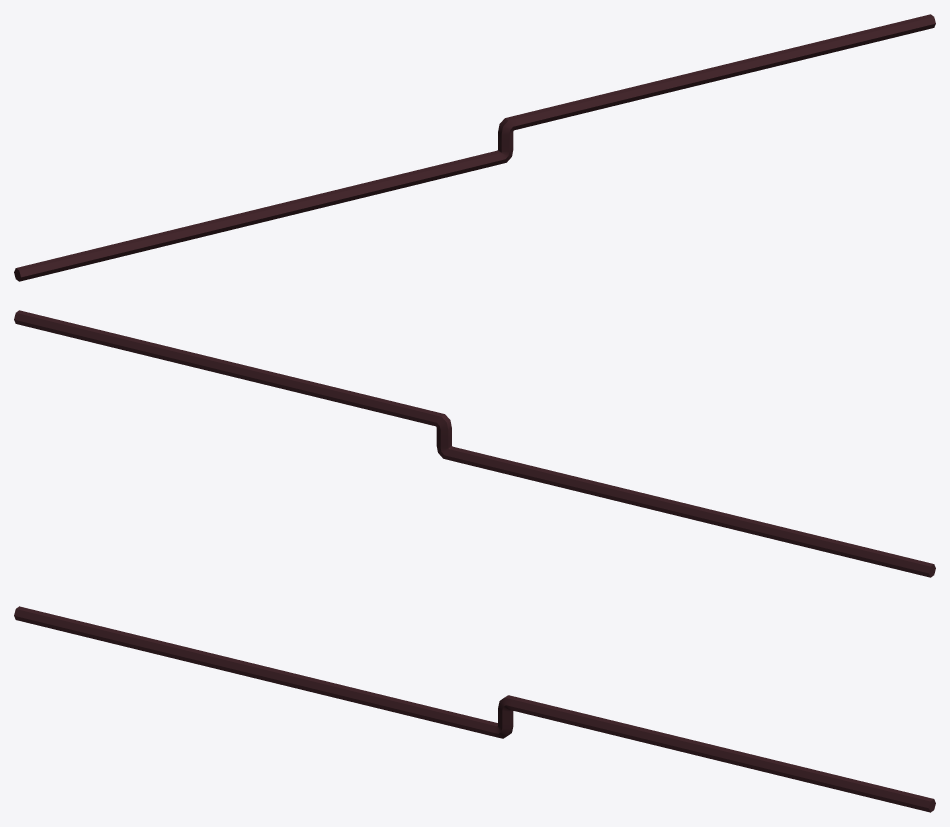
The model's file is ventpipe.fbx.
3 renders of one model, top to bottom at view 1: azimuth 30°, elevation 25°; view 2: azimuth 150°, elevation 25°; view 3: azimuth 330°, elevation 25°, orthographic.
Parts seen in each view (by area): view 1: polySurface1040; view 2: polySurface1040; view 3: polySurface1040.
Boxes of the visible parts, x1,y1,x2,y2 form: polySurface1040: (14,14,935,281); polySurface1040: (14,310,935,577); polySurface1040: (14,606,935,812).
Size of the model in its own units: 33.66 by 1.46 by 0.4523.
Materials: 1 (1 with a texture image).
